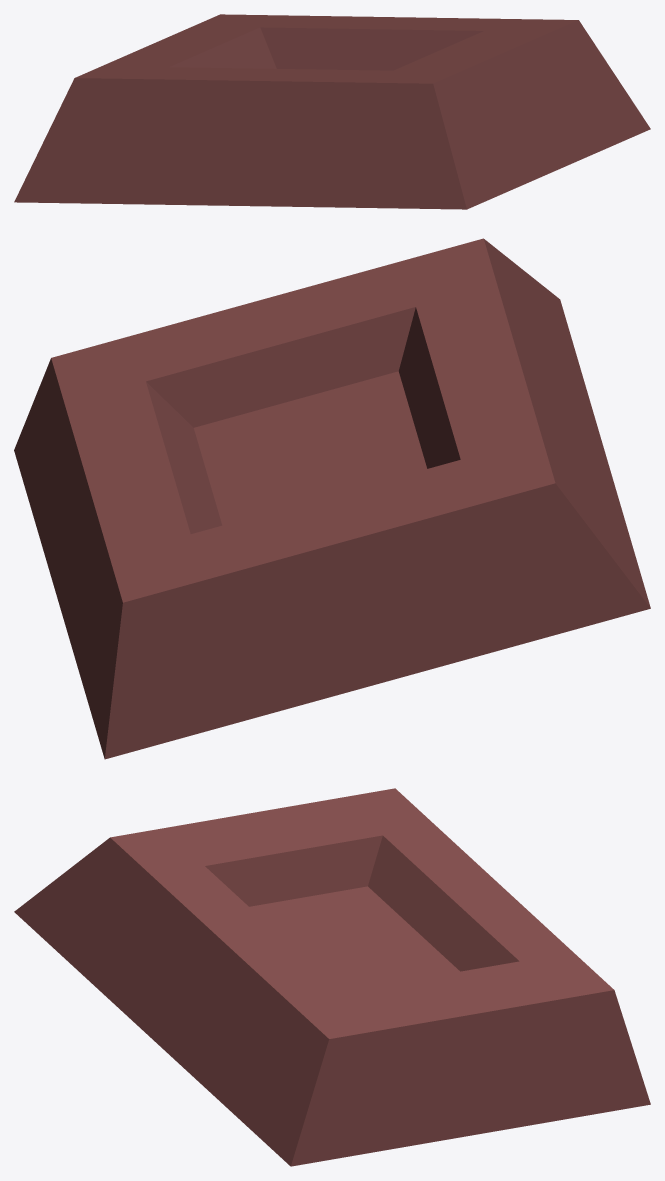
Rendered from SM_choco_2.fbx.
The picture shows the model from 3 angles, top to bottom: view 1: azimuth 30°, elevation 25°; view 2: azimuth 150°, elevation 25°; view 3: azimuth 270°, elevation 25°; orthographic projection. The views are drawn at different scales.
Parts seen in each view (by area): view 1: SM_choco_2; view 2: SM_choco_2; view 3: SM_choco_2.
Boxes of the visible parts, box(x1,y1,x2,y2) form: SM_choco_2: box(14, 14, 650, 209); SM_choco_2: box(14, 238, 650, 759); SM_choco_2: box(14, 788, 650, 1166).
Size of the model in its own units: 257 by 106 by 248.
1 material, 1 textured.
